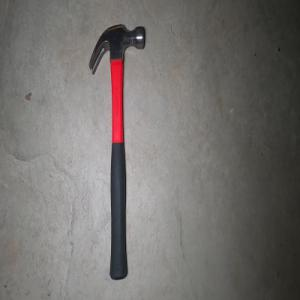Hammer: (87, 23, 145, 280)
